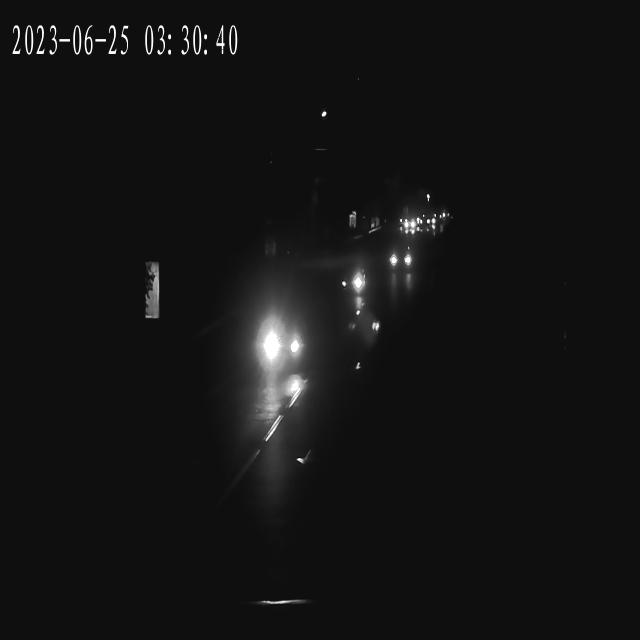Car: (256, 316, 310, 370), (340, 266, 369, 300), (386, 245, 413, 273), (400, 217, 418, 230), (399, 218, 414, 232), (418, 216, 433, 228), (415, 215, 430, 227)
